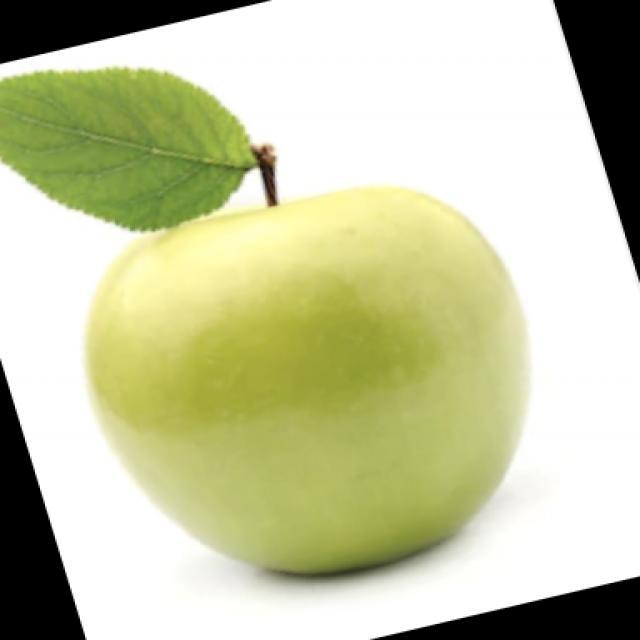Fresh Apple: (83, 178, 527, 575)
